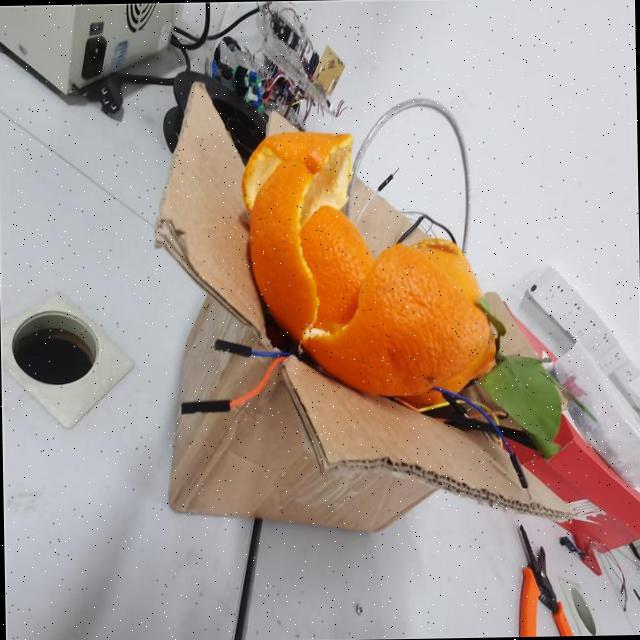orange-peel: (238, 125, 498, 406)
